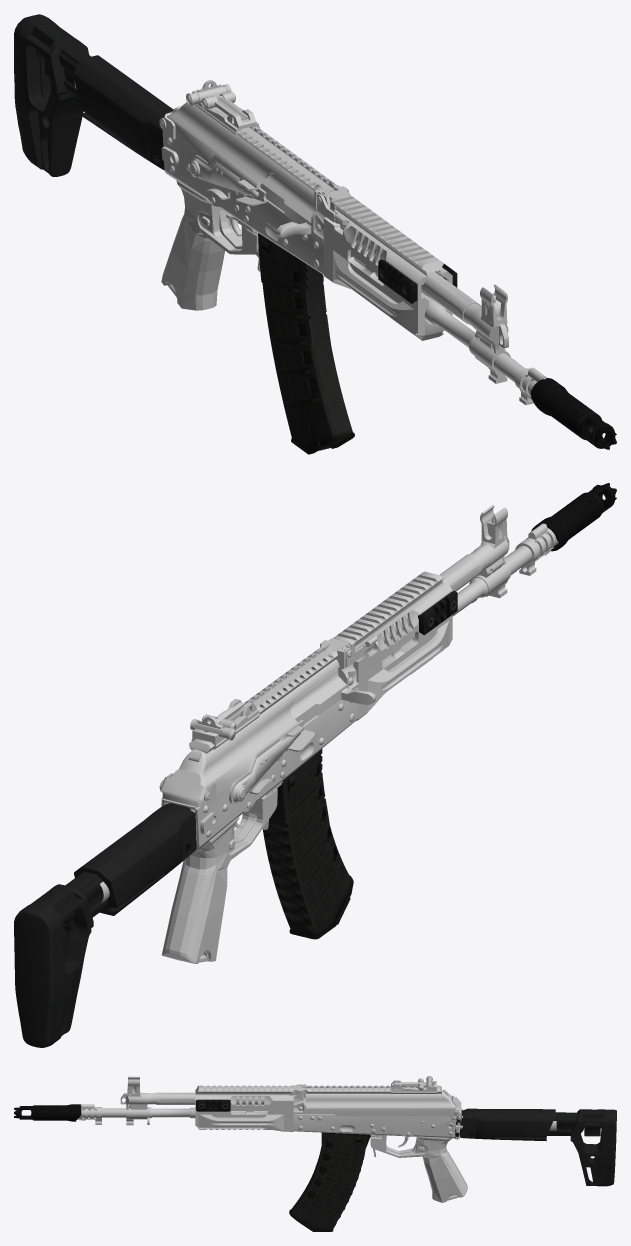
3 renders of one model, top to bottom at view 1: azimuth 30°, elevation 25°; view 2: azimuth 150°, elevation 25°; view 3: azimuth 270°, elevation 25°, orthographic. The views are drawn at different scales.
Parts seen in each view (by area): view 1: Magazine, AK12_Stock_EVO, Handguard, DustCover, AK12Gen2Grip, AK12_Stock_EVO_Base, Lower, MuzzleBrake, FrontSight, RearSight, Bolt, Selector (+5 smaller); view 2: AK12_Stock_EVO, Magazine, DustCover, Handguard, AK12Gen2Grip, AK12_Stock_EVO_Base, Lower, FrontSight, MuzzleBrake, Selector, Bolt, RearSight (+5 smaller); view 3: Magazine, DustCover, Handguard, AK12_Stock_EVO, Lower, AK12_Stock_EVO_Base, AK12Gen2Grip, FrontSight, MuzzleBrake, Barrel, BoltTube, RearSight (+3 smaller).
Boxes of the visible parts, left/top/right/bottom form: Magazine: left=258, top=233, right=354, bottom=454; AK12_Stock_EVO: left=14, top=14, right=90, bottom=176; Handguard: left=323, top=194, right=452, bottom=340; DustCover: left=159, top=102, right=344, bottom=201; AK12Gen2Grip: left=161, top=180, right=258, bottom=310; AK12_Stock_EVO_Base: left=73, top=55, right=173, bottom=170; Lower: left=161, top=130, right=323, bottom=274; MuzzleBrake: left=530, top=378, right=616, bottom=449; FrontSight: left=463, top=284, right=510, bottom=383; RearSight: left=186, top=80, right=259, bottom=136; Bolt: left=260, top=173, right=315, bottom=238; Selector: left=189, top=155, right=266, bottom=205; AK12_Stock_EVO: left=14, top=871, right=108, bottom=1047; Magazine: left=263, top=749, right=353, bottom=939; DustCover: left=159, top=640, right=344, bottom=806; Handguard: left=333, top=571, right=452, bottom=720; AK12Gen2Grip: left=161, top=781, right=282, bottom=963; AK12_Stock_EVO_Base: left=74, top=803, right=196, bottom=915; Lower: left=161, top=687, right=358, bottom=850; FrontSight: left=470, top=505, right=510, bottom=598; MuzzleBrake: left=531, top=483, right=616, bottom=551; Selector: left=229, top=720, right=315, bottom=804; Bolt: left=290, top=668, right=376, bottom=724; RearSight: left=190, top=699, right=259, bottom=749; Magazine: left=289, top=1132, right=370, bottom=1231; DustCover: left=295, top=1085, right=461, bottom=1116; Handguard: left=195, top=1085, right=293, bottom=1131; AK12_Stock_EVO: left=547, top=1109, right=616, bottom=1186; Lower: left=293, top=1108, right=462, bottom=1139; AK12_Stock_EVO_Base: left=455, top=1108, right=555, bottom=1141; AK12Gen2Grip: left=370, top=1134, right=467, bottom=1202; FrontSight: left=120, top=1076, right=156, bottom=1125; MuzzleBrake: left=14, top=1104, right=81, bottom=1121; Barrel: left=82, top=1107, right=268, bottom=1124; BoltTube: left=156, top=1092, right=264, bottom=1104; RearSight: left=391, top=1076, right=436, bottom=1093.
Size of the model in its own units: 11.9 by 45.09 by 164.
